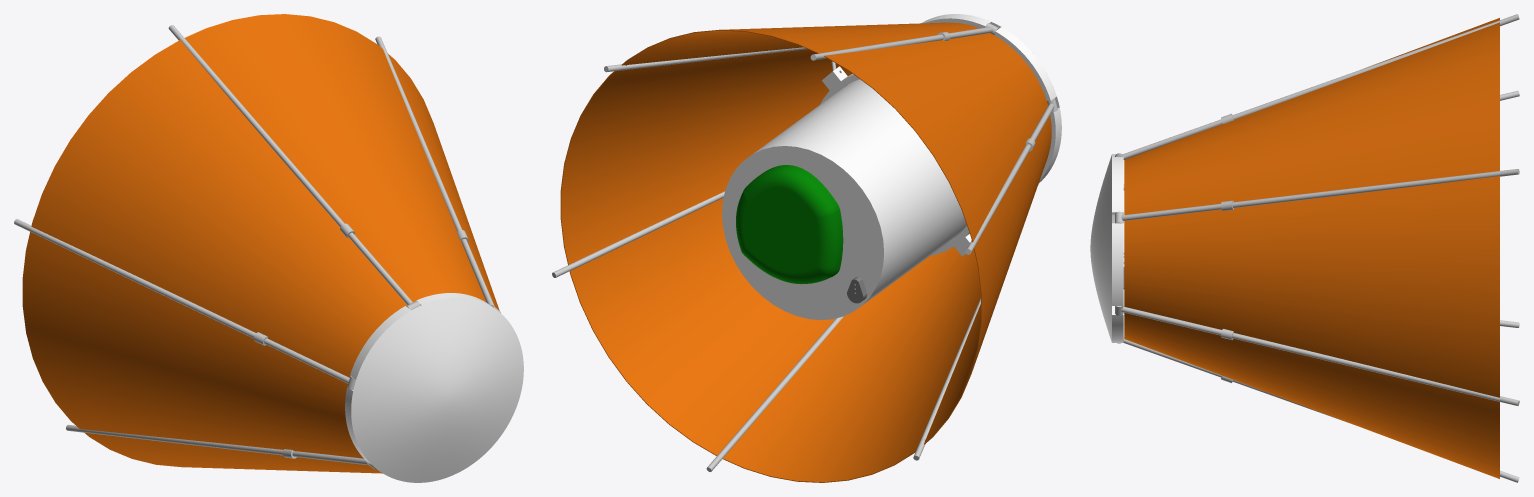
The model's file is Payload assembly deployted.obj.
3 views of the same model, side by side, from view 1: azimuth 30°, elevation 25°; view 2: azimuth 150°, elevation 25°; view 3: azimuth 270°, elevation 25° (orthographic). The views are drawn at different scales.
Visible parts, largest first — view 1: mesh 6 SERVO DEMO-1, mesh 4 parachutefolded-1, mesh 1 umbrella pin-3; view 2: mesh 6 SERVO DEMO-1, mesh 4 parachutefolded-1, mesh 2 umbrella pin-2, mesh 1 umbrella pin-3; view 3: mesh 6 SERVO DEMO-1, mesh 1 umbrella pin-3, mesh 4 parachutefolded-1.
Boxes of the visible parts, x1=… form: mesh 6 SERVO DEMO-1: x1=22, y1=14, x2=499, y2=473; mesh 4 parachutefolded-1: x1=345, y1=293, x2=523, y2=482; mesh 1 umbrella pin-3: x1=14, y1=25, x2=501, y2=469; mesh 6 SERVO DEMO-1: x1=560, y1=22, x2=1051, y2=482; mesh 4 parachutefolded-1: x1=722, y1=14, x2=1061, y2=319; mesh 2 umbrella pin-2: x1=736, y1=165, x2=843, y2=284; mesh 1 umbrella pin-3: x1=552, y1=23, x2=1057, y2=471; mesh 6 SERVO DEMO-1: x1=1124, y1=18, x2=1499, y2=478; mesh 1 umbrella pin-3: x1=1115, y1=14, x2=1519, y2=482; mesh 4 parachutefolded-1: x1=1090, y1=154, x2=1124, y2=342.
Size of the model in its own units: 0.3193 by 0.321 by 0.2971.
